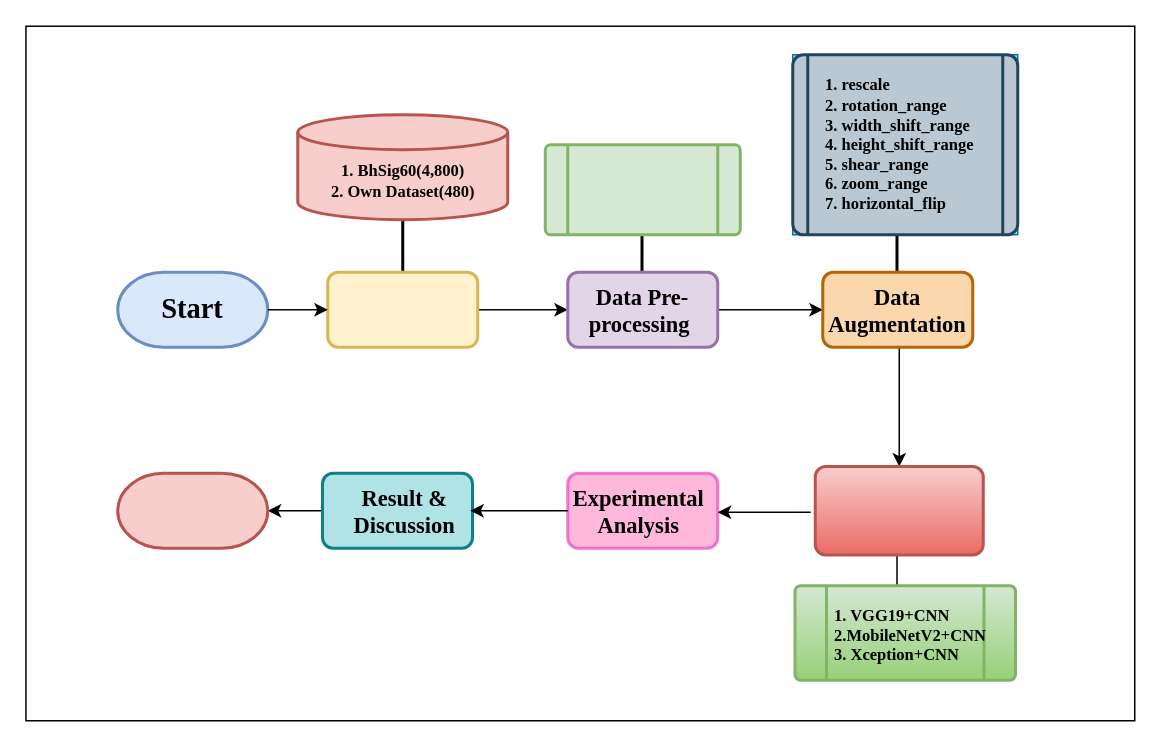
Image size: 1163x747. Some labels were removed from this diagram. Here are the shapes that lost their labels. From the top down, the box of each, then its label:
(543, 142, 741, 236): 1. Histogram based thresholding 2. Resize(256,256)
(326, 270, 478, 348): Data Input
(116, 471, 268, 549): End
(813, 464, 984, 556): Building Deep learning Models
